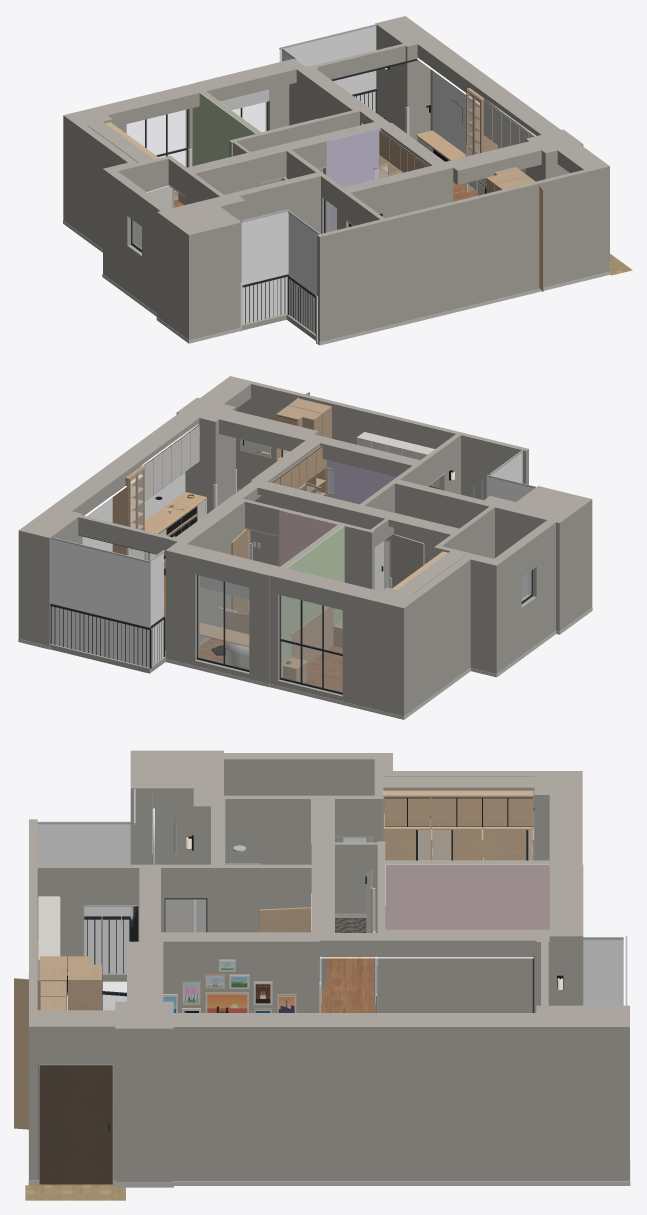
File: m_house.glb
The picture shows the model from 3 angles, top to bottom: view 1: azimuth 30°, elevation 25°; view 2: azimuth 150°, elevation 25°; view 3: azimuth 270°, elevation 25°; orthographic projection. The views are drawn at different scales.
Parts seen in each view (by area): view 1: Mesh_297, Mesh_7, Mesh_389, Mesh_299, Mesh_312, Mesh_360, Mesh_320, Mesh_334, Mesh_300, Mesh_298, Mesh_353, Mesh_321 (+4 smaller); view 2: Mesh_297, Mesh_7, Mesh_389, Mesh_299, Mesh_312, Mesh_321, Mesh_300, Mesh_320, Mesh_353, Mesh_298, Mesh_360, Mesh_294 (+9 smaller); view 3: Mesh_297, Mesh_7, Mesh_324, Mesh_302, Mesh_389, Mesh_21, Mesh_312, Mesh_294, Mesh_298, Mesh_259, Mesh_369, Mesh_353 (+10 smaller).
Boxes of the visible parts, box(x1,y1,x2,y2) form: Mesh_297: box(63, 16, 609, 341); Mesh_7: box(87, 41, 602, 190); Mesh_389: box(241, 26, 376, 333); Mesh_299: box(127, 102, 336, 249); Mesh_312: box(379, 88, 535, 193); Mesh_360: box(326, 128, 379, 231); Mesh_320: box(192, 92, 256, 165); Mesh_334: box(432, 68, 525, 173); Mesh_300: box(131, 58, 420, 334); Mesh_298: box(63, 196, 610, 345); Mesh_353: box(483, 99, 535, 147); Mesh_321: box(178, 130, 465, 205); Mesh_297: box(18, 376, 592, 716); Mesh_7: box(59, 379, 465, 596); Mesh_389: box(51, 452, 534, 667); Mesh_299: box(198, 570, 531, 692); Mesh_312: box(112, 398, 331, 559); Mesh_321: box(145, 450, 342, 682); Mesh_300: box(50, 535, 532, 694); Mesh_320: box(282, 526, 344, 662); Mesh_353: box(141, 424, 434, 500); Mesh_298: box(18, 489, 592, 719); Mesh_360: box(269, 460, 396, 504); Mesh_294: box(164, 530, 342, 691); Mesh_297: box(29, 750, 629, 1182); Mesh_7: box(37, 777, 570, 1023); Mesh_324: box(385, 864, 549, 929); Mesh_302: box(383, 790, 533, 860); Mesh_389: box(37, 824, 623, 1005); Mesh_21: box(38, 1064, 112, 1184); Mesh_312: box(40, 956, 296, 1012); Mesh_294: box(39, 956, 375, 1185); Mesh_298: box(28, 913, 630, 1187); Mesh_259: box(14, 978, 40, 1129); Mesh_369: box(163, 962, 294, 1012); Mesh_353: box(38, 896, 272, 1012).
Bounding box in the file's own units: 10.89 × 2.75 × 9.69.
46 materials, 12 textured.
